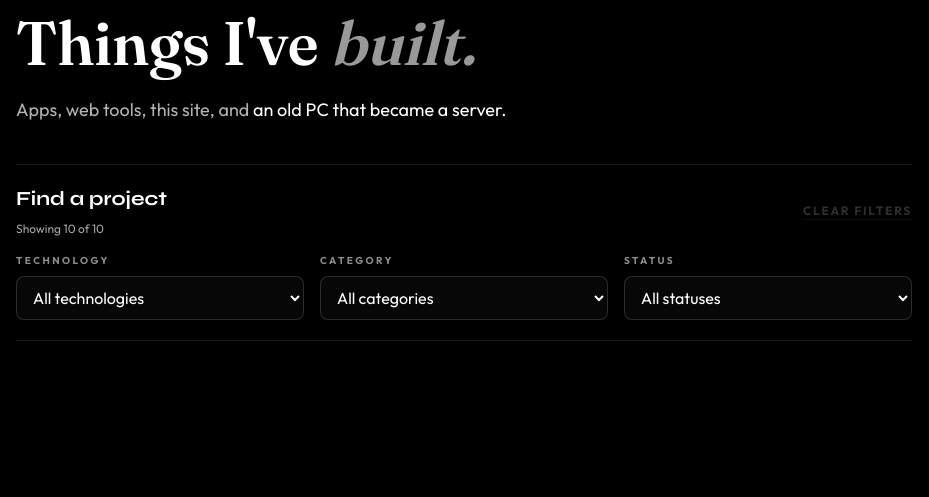
it: Projects › filters projects by category
The image size is (929, 497).
Select "Archive" in the dropdown labelled "Category". click: [464, 298]
box: [320,276,608,320]
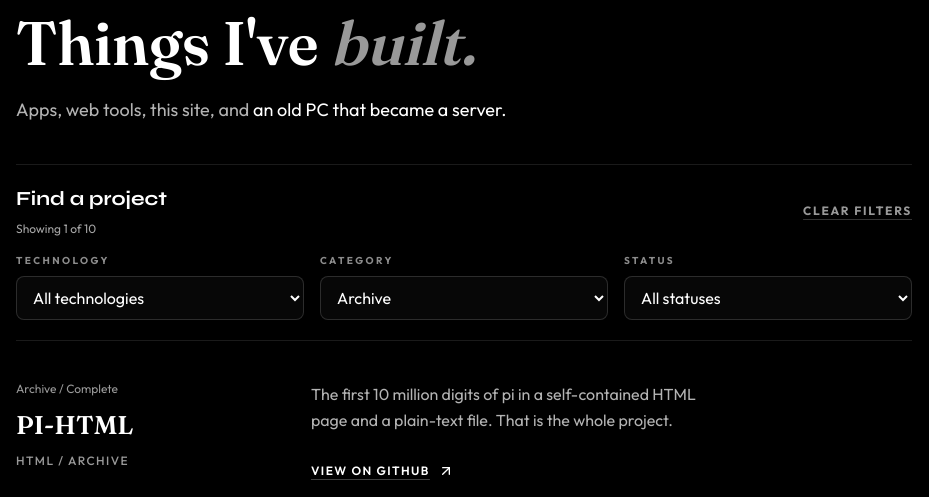
Now the text "Showing 1 of 10" is shown, box [16,221,96,236]
Now the heading "PI-HTML" is shown, box [16,409,133,441]
